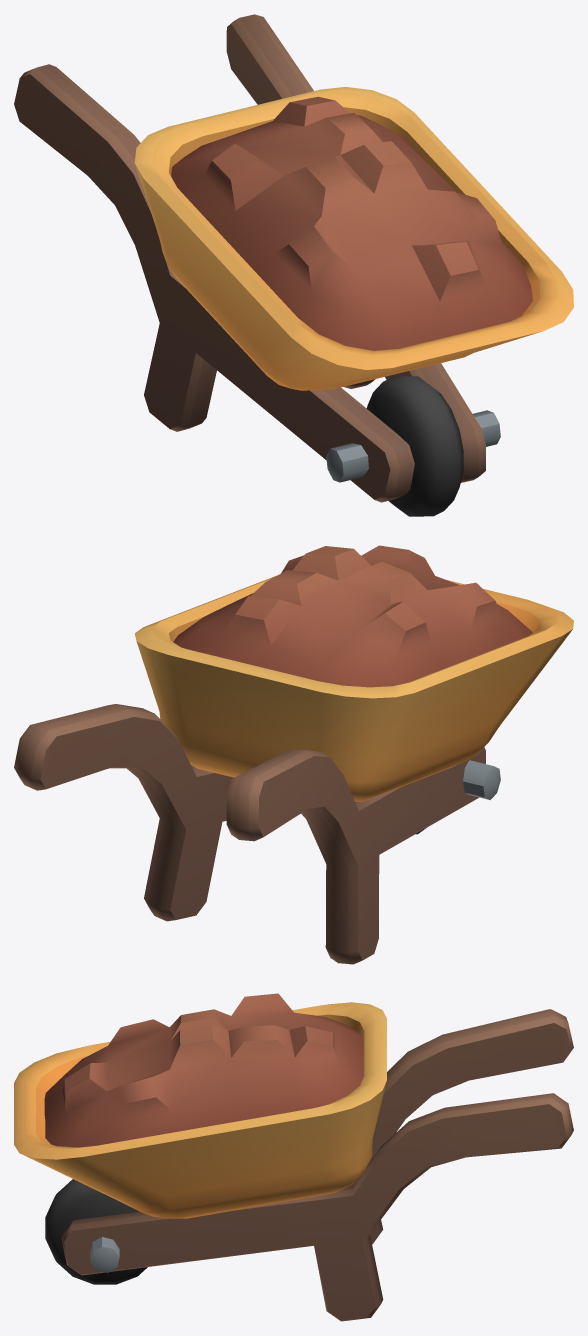
File: brouette.glb
3 views of the same model, one above another, from view 1: azimuth 30°, elevation 25°; view 2: azimuth 150°, elevation 25°; view 3: azimuth 270°, elevation 25° (orthographic). The views are drawn at different scales.
Parts seen in each view (by area): view 1: wheelbarrow; view 2: wheelbarrow; view 3: wheelbarrow.
Part boxes in pixels (x1,y1,x2,y2): wheelbarrow: (14,14,573,516); wheelbarrow: (14,545,573,964); wheelbarrow: (14,993,573,1321).
Bounding box in the file's own units: 1.04 × 1.17 × 2.23.
Materials: 1 (1 with a texture image).
